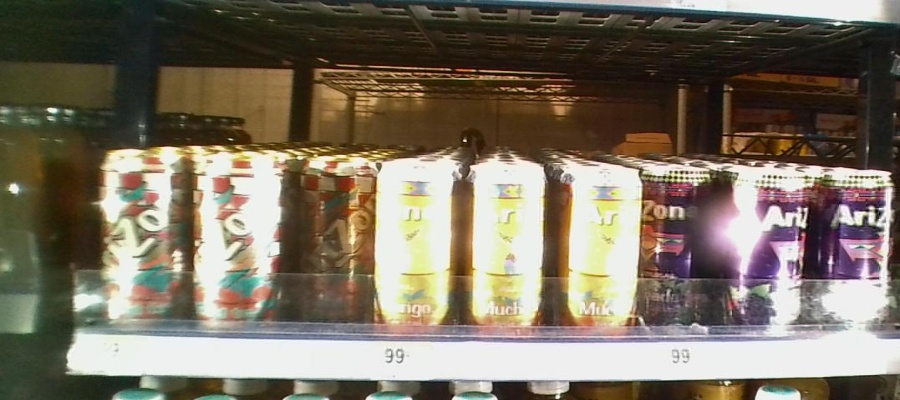bottle: (95, 138, 193, 334), (719, 154, 814, 336), (194, 140, 283, 330), (372, 146, 460, 333), (465, 154, 546, 335), (297, 141, 372, 334), (556, 154, 639, 328), (817, 161, 895, 334), (640, 159, 712, 333)
